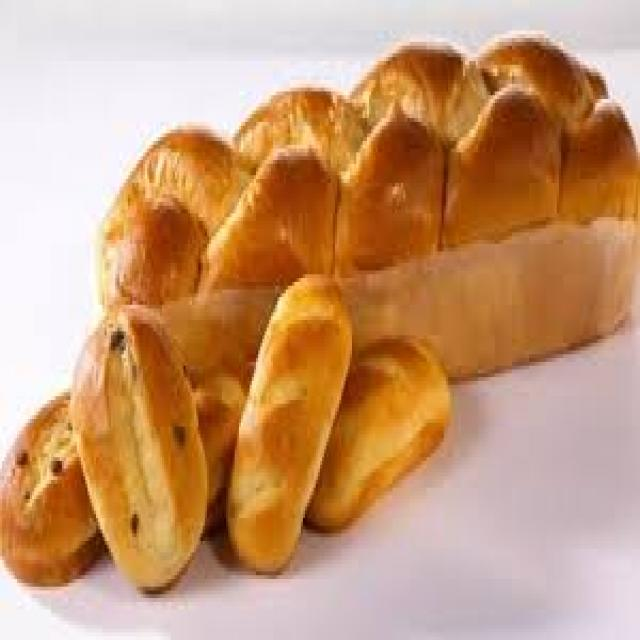organic waste: (94, 27, 636, 381), (0, 354, 252, 579), (68, 297, 207, 591), (224, 266, 348, 568), (299, 324, 448, 537)
